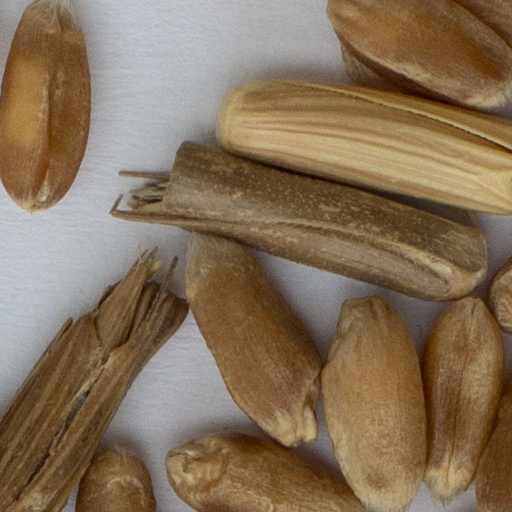Peel-poly: (105, 138, 490, 304), (0, 241, 191, 511), (216, 75, 511, 216)
Wheat-grain-poly: (0, 0, 95, 214), (477, 367, 511, 511)
